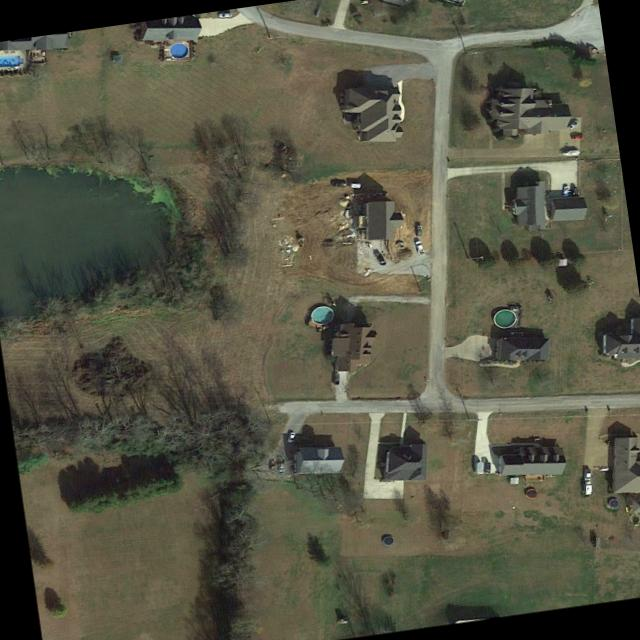ship: (563, 149, 582, 159)
small-vehicle: (416, 241, 426, 256), (376, 254, 387, 266), (562, 185, 571, 198), (585, 482, 593, 496), (569, 120, 580, 130), (483, 462, 492, 474), (288, 432, 296, 444), (584, 470, 592, 481), (572, 134, 584, 141), (219, 12, 233, 18), (572, 187, 579, 198), (333, 182, 347, 187), (334, 374, 340, 385), (417, 225, 423, 236), (271, 459, 276, 469), (280, 464, 285, 473)
